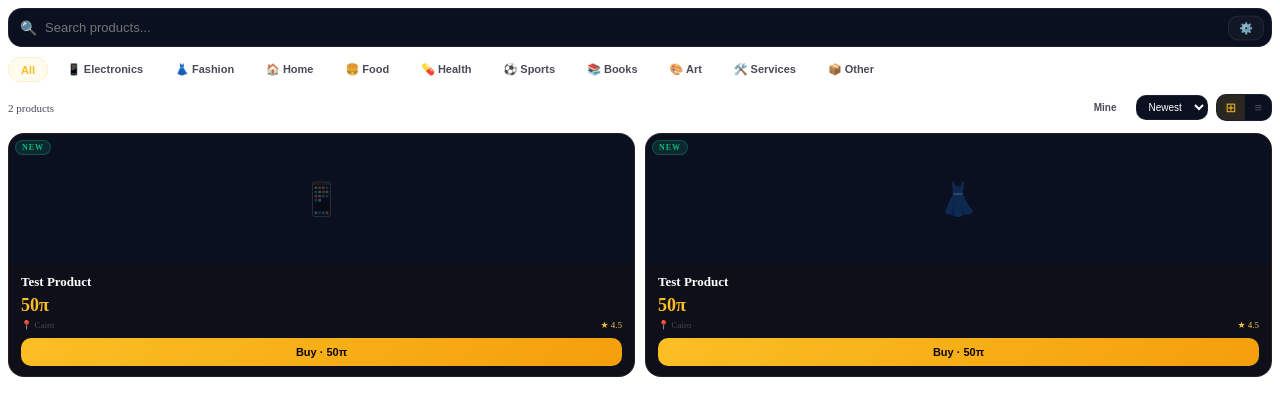
Test: ProductsTab › بيفلتر بالـ category
The image size is (1280, 394).
Click the button "👗 Fashion": [205, 70] box [162,57,247,82]
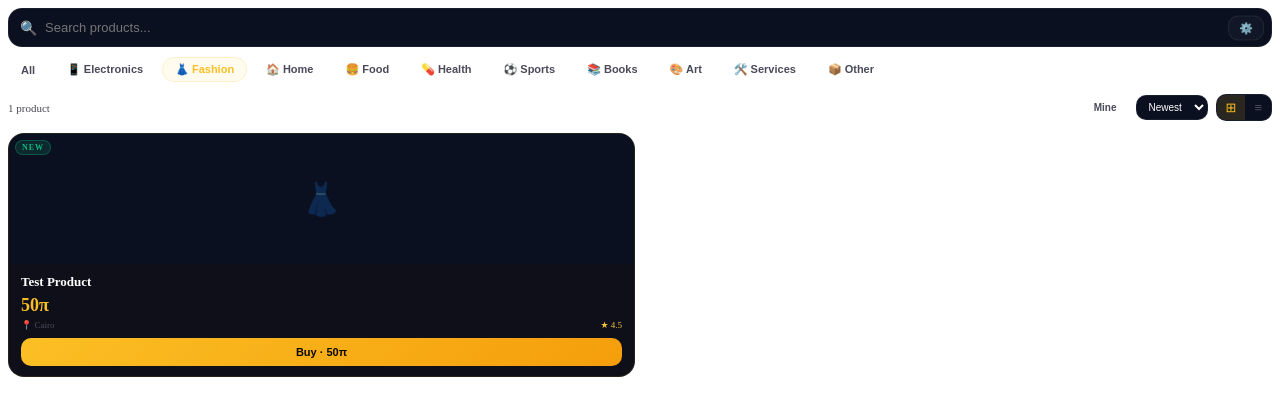
Expected: the element with test id "card-p2" is shown, [8,133,635,377]
Expected: the element with test id "card-p1" is gone
